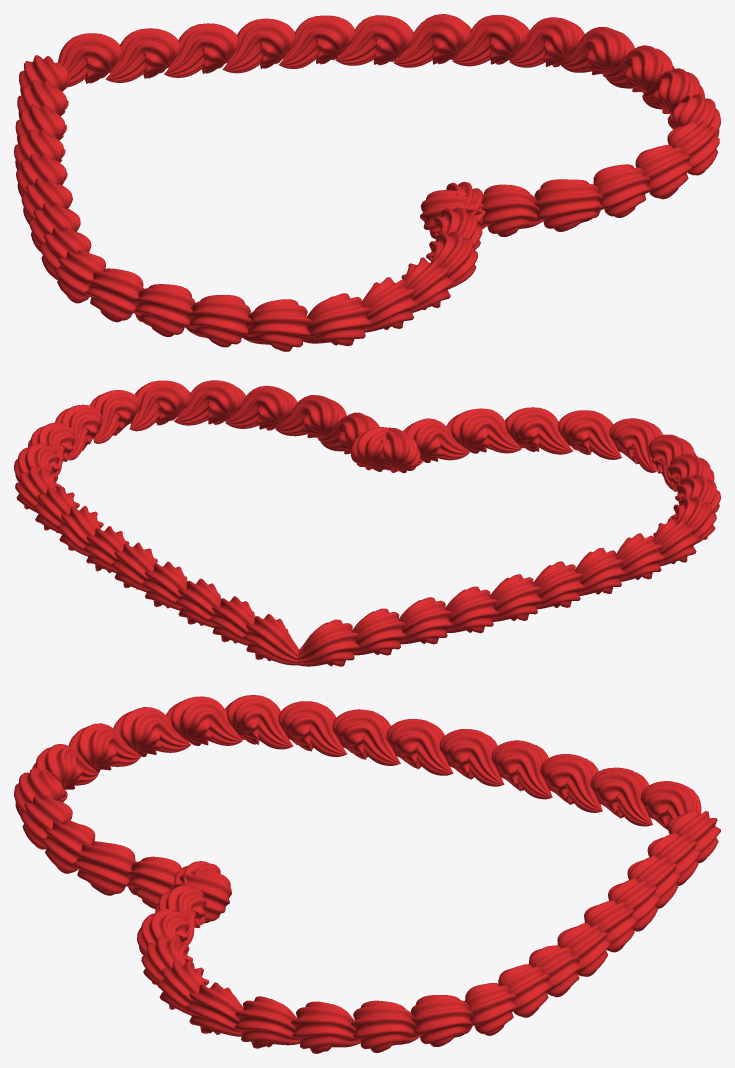
The model's file is cherrycake3.glb.
The picture shows the model from 3 angles, top to bottom: view 1: azimuth 30°, elevation 25°; view 2: azimuth 150°, elevation 25°; view 3: azimuth 270°, elevation 25°; orthographic projection. The views are drawn at different scales.
Visible parts, largest first — view 1: BezierCurve.001; view 2: BezierCurve.001; view 3: BezierCurve.001.
Boxes of the visible parts, x1,y1,x2,y2 form: BezierCurve.001: [14, 14, 720, 351]; BezierCurve.001: [14, 380, 720, 666]; BezierCurve.001: [14, 695, 720, 1053].
Bounding box in the file's own units: 10.04 × 0.724 × 9.16.
